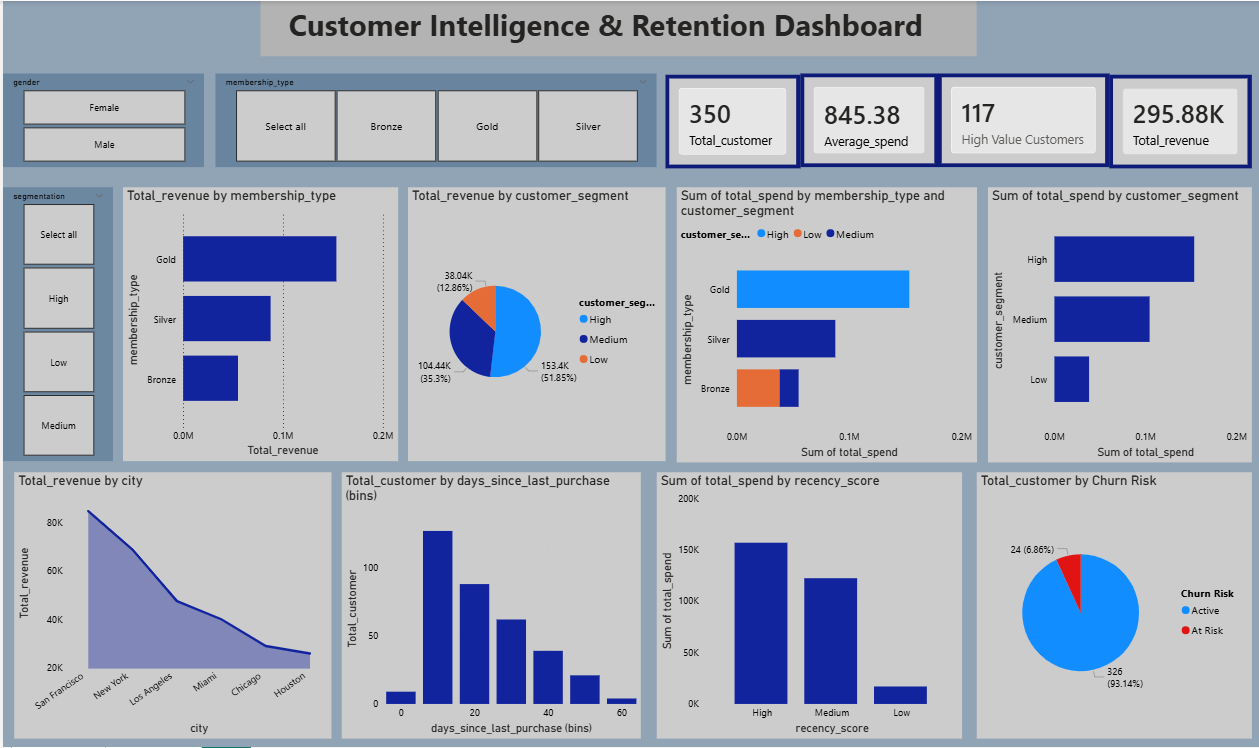

Layout of this report page (visuals, bound fields, positions):
{"tool":"powerbi","page":{"name":"Page 1","canvas":[1600,950],"ordinal":0},"visuals":[{"type":"cardVisual","fields":{"Data":["cleaned_ecommerce_data.Total_revenue"]},"box":[1408.8,93.9,181.5,119.4],"z":0},{"type":"cardVisual","fields":{"Data":["cleaned_ecommerce_data.Total_customer"]},"box":[843.7,93.9,171.9,119.4],"z":1000},{"type":"cardVisual","fields":{"Data":["cleaned_ecommerce_data.Average_spend"]},"box":[1015.6,92.3,175.1,119.4],"z":2000},{"type":"barChart","fields":{"Y":["cleaned_ecommerce_data.Total_revenue"],"Category":["cleaned_ecommerce_data.membership_type"]},"box":[152.8,237.2,350.2,348.6],"z":3000},{"type":"areaChart","fields":{"Y":["cleaned_ecommerce_data.Total_revenue"],"Category":["cleaned_ecommerce_data.city"]},"box":[14.3,600.1,404.3,339.1],"z":4000},{"type":"pieChart","fields":{"Category":["cleaned_ecommerce_data.customer_segment"],"Y":["cleaned_ecommerce_data.Total_revenue"]},"box":[515.8,237.2,327.9,348.6],"z":5000},{"type":"barChart","fields":{"Category":["cleaned_ecommerce_data.customer_segment"],"Y":["Sum(cleaned_ecommerce_data.total_spend)"]},"box":[1254.4,237.2,335.9,350.2],"z":6000},{"type":"barChart","fields":{"Category":["cleaned_ecommerce_data.membership_type"],"Series":["cleaned_ecommerce_data.customer_segment"],"Y":["Sum(cleaned_ecommerce_data.total_spend)"]},"box":[858,237.2,382,350.2],"z":7000},{"type":"columnChart","fields":{"Y":["Sum(cleaned_ecommerce_data.total_spend)"],"Category":["cleaned_ecommerce_data.recency_score"]},"box":[832.5,600.1,388.4,339.1],"z":8000},{"type":"columnChart","fields":{"Y":["cleaned_ecommerce_data.Total_customer"],"Category":["cleaned_ecommerce_data.days_since_last_purchase (bins)"]},"box":[431.4,600.1,380.4,339.1],"z":9000},{"type":"pieChart","fields":{"Category":["cleaned_ecommerce_data.Churn Risk"],"Y":["cleaned_ecommerce_data.Total_customer"]},"box":[1240,600.1,350.2,339.1],"z":10000},{"type":"slicer","fields":{"Values":["cleaned_ecommerce_data.membership_type"]},"box":[270.6,92.3,561.9,119.4],"z":11000},{"type":"slicer","fields":{"Values":["cleaned_ecommerce_data.customer_segment"]},"box":[0,237.2,140.1,348.6],"z":12000},{"type":"cardVisual","fields":{"Data":["cleaned_ecommerce_data.High Value Customers"]},"box":[1190.7,92.3,218.1,119.4],"z":13001},{"type":"slicer","fields":{"Values":["cleaned_ecommerce_data.gender"]},"box":[0,92.3,256.3,119.4],"z":13002},{"type":"textbox","box":[327.9,0,912.1,70],"z":13003}]}

Visuals, with their boxes in screenshot pixels (x1, y1, x2, y2), scaled from the page's 1600x950 canvas onto the 1259x748 screenshot:
cardVisual - cleaned_ecommerce_data.Total_revenue: bbox=(1109, 74, 1251, 168)
cardVisual - cleaned_ecommerce_data.Total_customer: bbox=(664, 74, 799, 168)
cardVisual - cleaned_ecommerce_data.Average_spend: bbox=(799, 73, 937, 167)
barChart - cleaned_ecommerce_data.Total_revenue x cleaned_ecommerce_data.membership_type: bbox=(120, 187, 396, 461)
areaChart - cleaned_ecommerce_data.Total_revenue x cleaned_ecommerce_data.city: bbox=(11, 472, 329, 739)
pieChart - cleaned_ecommerce_data.customer_segment x cleaned_ecommerce_data.Total_revenue: bbox=(406, 187, 664, 461)
barChart - cleaned_ecommerce_data.customer_segment x Sum(cleaned_ecommerce_data.total_spend): bbox=(987, 187, 1251, 463)
barChart - cleaned_ecommerce_data.membership_type x cleaned_ecommerce_data.customer_segment: bbox=(675, 187, 976, 463)
columnChart - Sum(cleaned_ecommerce_data.total_spend) x cleaned_ecommerce_data.recency_score: bbox=(655, 472, 961, 739)
columnChart - cleaned_ecommerce_data.Total_customer x cleaned_ecommerce_data.days_since_last_purchase (bins): bbox=(339, 472, 639, 739)
pieChart - cleaned_ecommerce_data.Churn Risk x cleaned_ecommerce_data.Total_customer: bbox=(976, 472, 1251, 739)
slicer - cleaned_ecommerce_data.membership_type: bbox=(213, 73, 655, 167)
slicer - cleaned_ecommerce_data.customer_segment: bbox=(0, 187, 110, 461)
cardVisual - cleaned_ecommerce_data.High Value Customers: bbox=(937, 73, 1109, 167)
slicer - cleaned_ecommerce_data.gender: bbox=(0, 73, 202, 167)
textbox: bbox=(258, 0, 976, 55)
